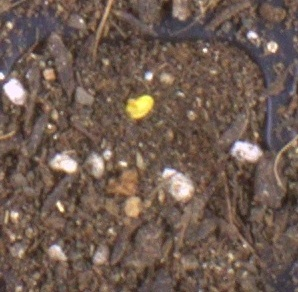chilli seed: (126, 94, 154, 120)
